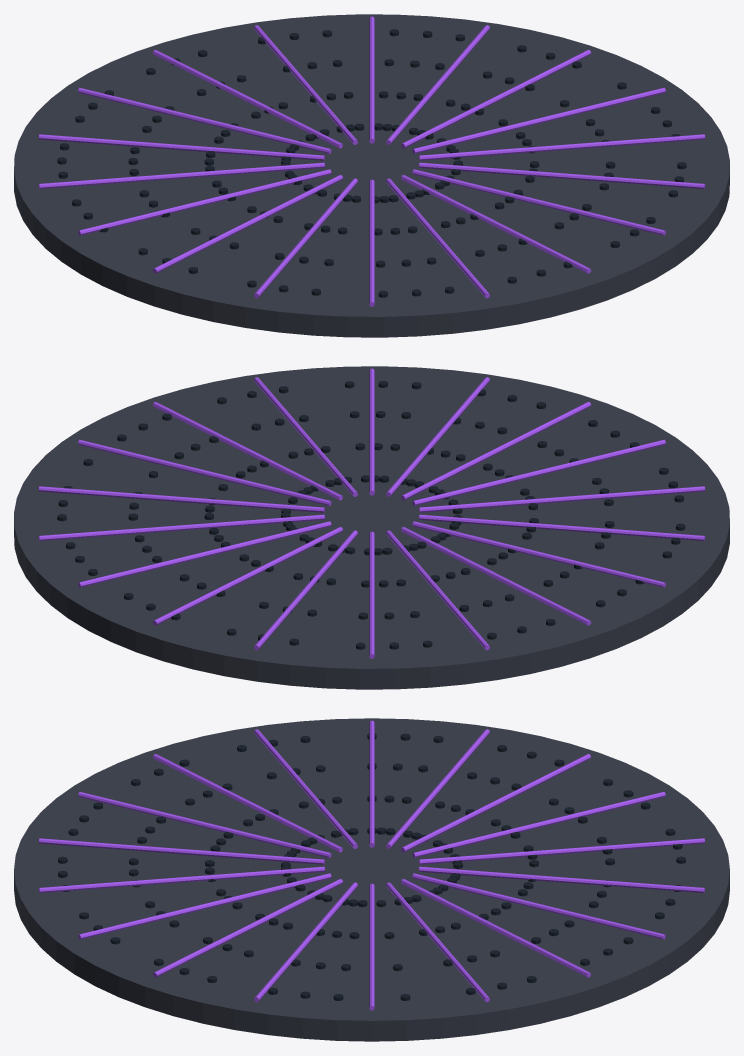
The model's file is 32_L77_BarrierSelectivePolishingPad.fbx.
The picture shows the model from 3 angles, top to bottom: view 1: azimuth 30°, elevation 25°; view 2: azimuth 150°, elevation 25°; view 3: azimuth 270°, elevation 25°; orthographic projection.
Visible parts, largest first — view 1: BarrierSelectivePolishingPad_Part_0000, BarrierSelectivePolishingPad_Part_0174, BarrierSelectivePolishingPad_Part_0183, BarrierSelectivePolishingPad_Part_0175, BarrierSelectivePolishingPad_Part_0184, BarrierSelectivePolishingPad_Part_0173, BarrierSelectivePolishingPad_Part_0185, BarrierSelectivePolishingPad_Part_0176, BarrierSelectivePolishingPad_Part_0182, BarrierSelectivePolishingPad_Part_0181, BarrierSelectivePolishingPad_Part_0186, BarrierSelectivePolishingPad_Part_0190 (+7 smaller); view 2: BarrierSelectivePolishingPad_Part_0000, BarrierSelectivePolishingPad_Part_0190, BarrierSelectivePolishingPad_Part_0180, BarrierSelectivePolishingPad_Part_0189, BarrierSelectivePolishingPad_Part_0181, BarrierSelectivePolishingPad_Part_0179, BarrierSelectivePolishingPad_Part_0188, BarrierSelectivePolishingPad_Part_0173, BarrierSelectivePolishingPad_Part_0182, BarrierSelectivePolishingPad_Part_0178, BarrierSelectivePolishingPad_Part_0183, BarrierSelectivePolishingPad_Part_0174 (+7 smaller); view 3: BarrierSelectivePolishingPad_Part_0000, BarrierSelectivePolishingPad_Part_0178, BarrierSelectivePolishingPad_Part_0177, BarrierSelectivePolishingPad_Part_0187, BarrierSelectivePolishingPad_Part_0186, BarrierSelectivePolishingPad_Part_0176, BarrierSelectivePolishingPad_Part_0188, BarrierSelectivePolishingPad_Part_0179, BarrierSelectivePolishingPad_Part_0185, BarrierSelectivePolishingPad_Part_0184, BarrierSelectivePolishingPad_Part_0189, BarrierSelectivePolishingPad_Part_0180 (+7 smaller).
Part boxes in pixels (x1,y1,x2,y2): BarrierSelectivePolishingPad_Part_0000: (14, 14, 729, 337); BarrierSelectivePolishingPad_Part_0174: (419, 134, 705, 160); BarrierSelectivePolishingPad_Part_0183: (38, 162, 324, 188); BarrierSelectivePolishingPad_Part_0175: (419, 162, 705, 188); BarrierSelectivePolishingPad_Part_0184: (38, 134, 324, 160); BarrierSelectivePolishingPad_Part_0173: (412, 87, 665, 153); BarrierSelectivePolishingPad_Part_0185: (78, 87, 331, 153); BarrierSelectivePolishingPad_Part_0176: (412, 169, 665, 235); BarrierSelectivePolishingPad_Part_0182: (78, 169, 331, 235); BarrierSelectivePolishingPad_Part_0181: (152, 175, 342, 273); BarrierSelectivePolishingPad_Part_0186: (153, 50, 342, 148); BarrierSelectivePolishingPad_Part_0190: (401, 50, 590, 148); BarrierSelectivePolishingPad_Part_0000: (14, 366, 729, 689); BarrierSelectivePolishingPad_Part_0190: (38, 486, 324, 512); BarrierSelectivePolishingPad_Part_0180: (419, 486, 705, 512); BarrierSelectivePolishingPad_Part_0189: (38, 514, 324, 540); BarrierSelectivePolishingPad_Part_0181: (419, 514, 705, 540); BarrierSelectivePolishingPad_Part_0179: (412, 439, 665, 505); BarrierSelectivePolishingPad_Part_0188: (78, 521, 331, 587); BarrierSelectivePolishingPad_Part_0173: (78, 439, 331, 505); BarrierSelectivePolishingPad_Part_0182: (412, 521, 665, 587); BarrierSelectivePolishingPad_Part_0178: (401, 402, 590, 500); BarrierSelectivePolishingPad_Part_0183: (401, 527, 591, 625); BarrierSelectivePolishingPad_Part_0174: (153, 402, 342, 500); BarrierSelectivePolishingPad_Part_0000: (14, 718, 729, 1041); BarrierSelectivePolishingPad_Part_0178: (39, 838, 324, 864); BarrierSelectivePolishingPad_Part_0177: (39, 866, 324, 892); BarrierSelectivePolishingPad_Part_0187: (419, 866, 704, 892); BarrierSelectivePolishingPad_Part_0186: (419, 838, 704, 864); BarrierSelectivePolishingPad_Part_0176: (78, 873, 331, 939); BarrierSelectivePolishingPad_Part_0188: (412, 873, 665, 939); BarrierSelectivePolishingPad_Part_0179: (78, 792, 331, 857); BarrierSelectivePolishingPad_Part_0185: (412, 792, 665, 857); BarrierSelectivePolishingPad_Part_0184: (401, 754, 590, 852); BarrierSelectivePolishingPad_Part_0189: (401, 879, 590, 977); BarrierSelectivePolishingPad_Part_0180: (153, 754, 342, 852).
Size of the model in its own units: 282 by 11.8 by 282.
